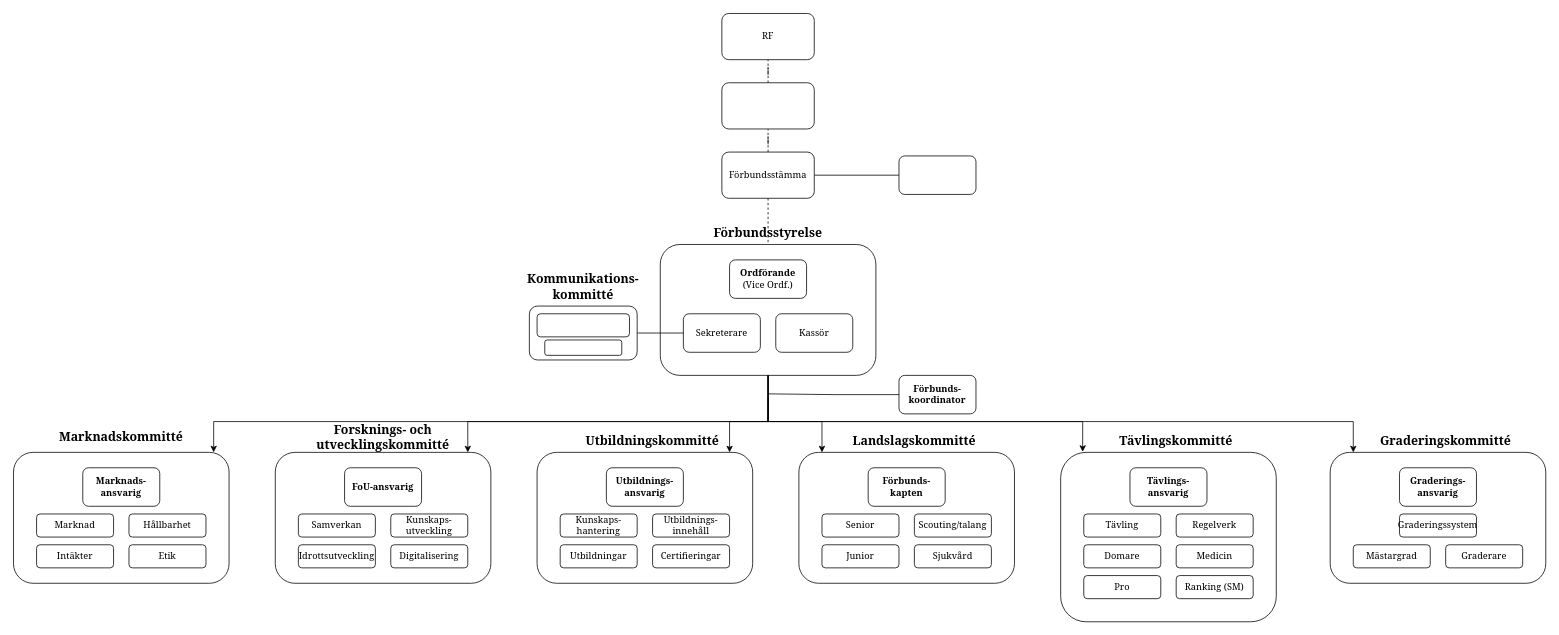
This 1559x635 diagram has some shape labels left out. Each missing label, with the centre of its shape:
Kommunikations-ansvarig: pixel 582 325
Kommunikatörer: pixel 583 347
SB&K: pixel 767 105
Valberedning: pixel 937 174
